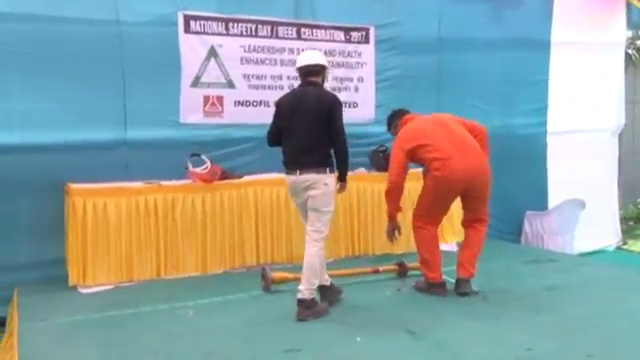helmet: (293, 50, 330, 72)
helmet_off: (385, 107, 410, 136)
helmet_on: (293, 49, 332, 90)
person: (267, 48, 349, 322), (380, 105, 493, 300)
